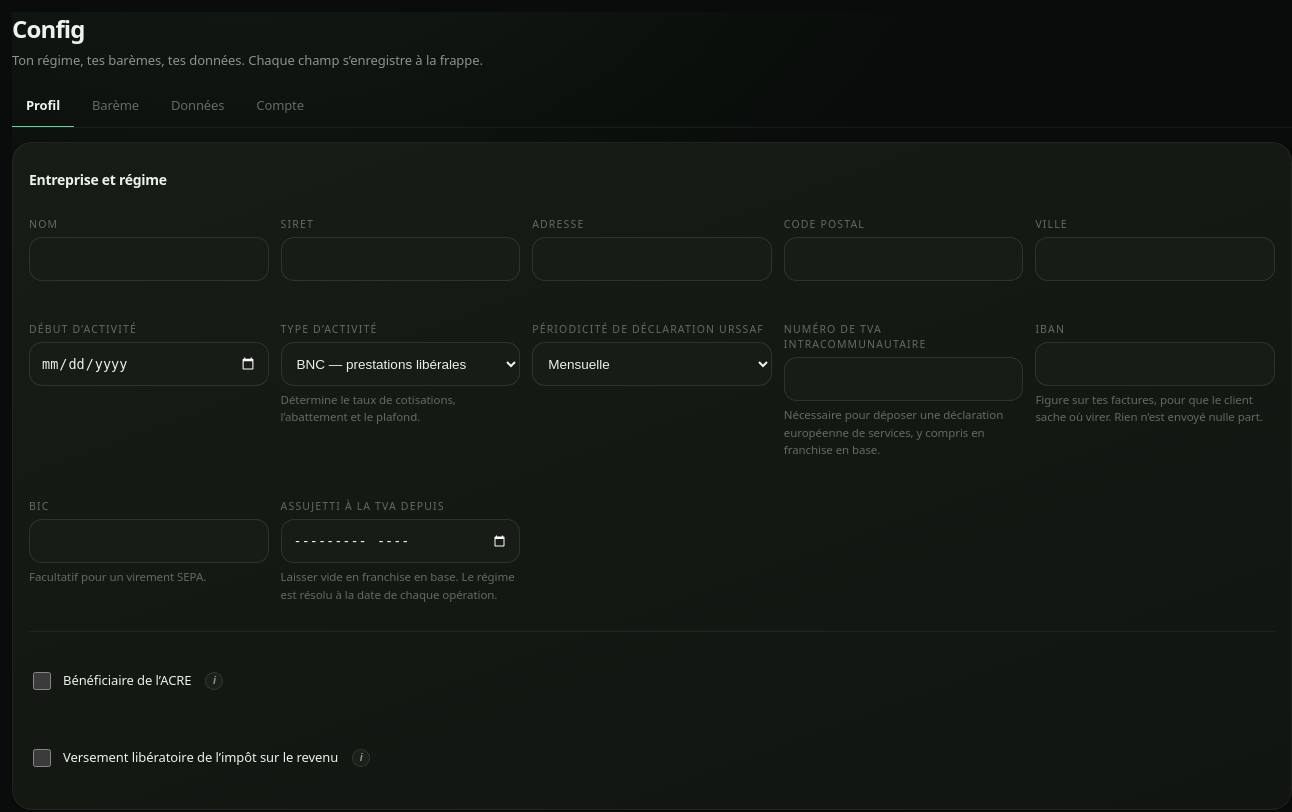
Test: ajout d’une période › refuse un taux illisible plutôt que d’enregistrer zéro
Click the tab "Barème".
click(115, 106)  # box [78,84,153,128]
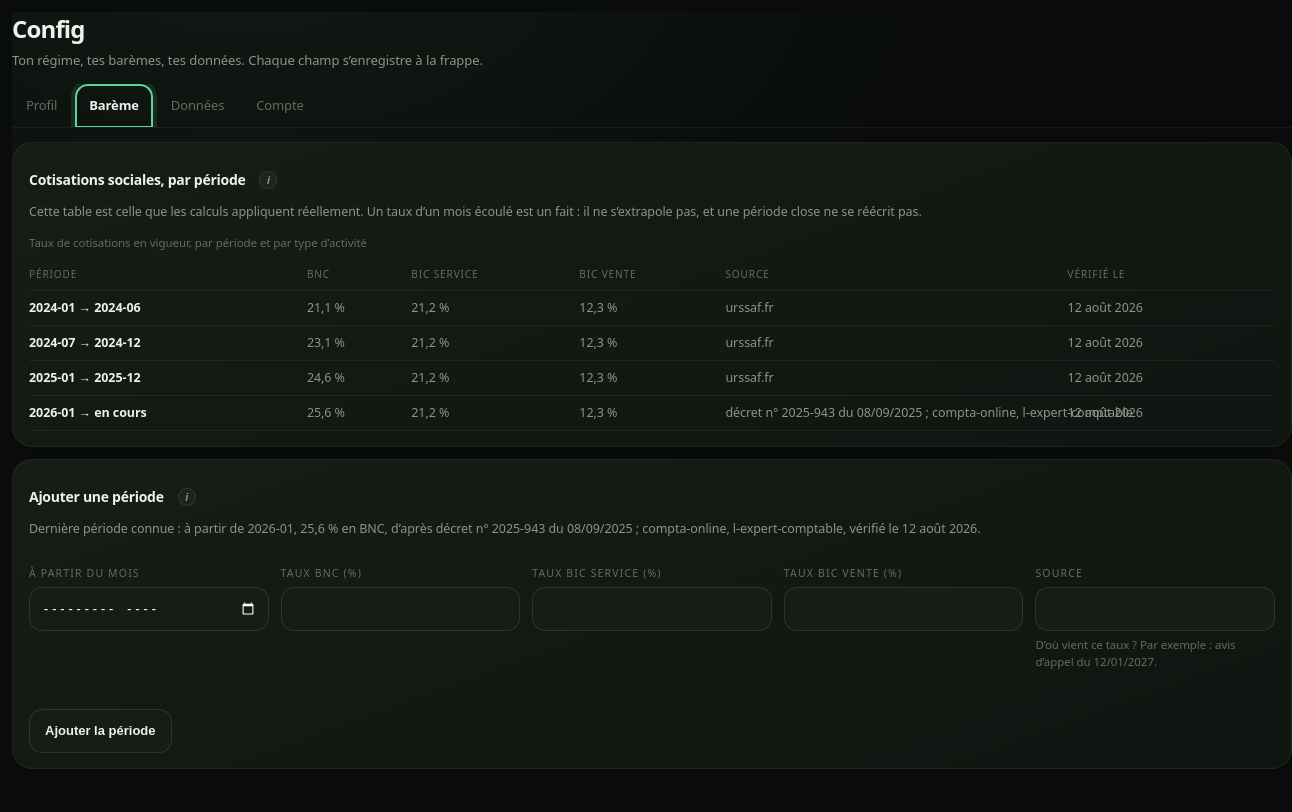
Expected: the table is shown, [29,235,1275,431]
Type "2027-01" into the field labelled "À partir du mois".
click(149, 608); type("2027-01")  # box [29,586,269,630]
Type "beaucoup" into the field labelled "Taux BNC (%)".
click(400, 608); type("beaucoup")  # box [281,586,520,630]
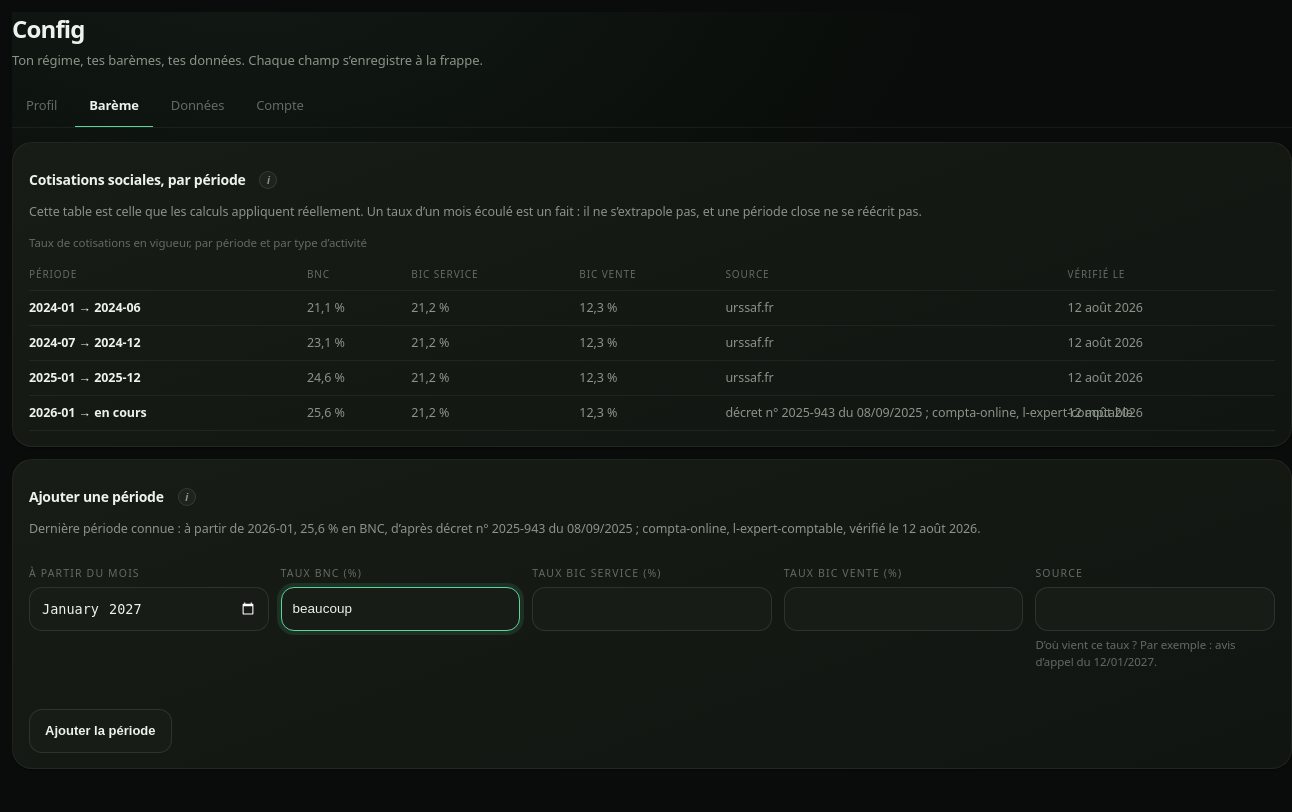
Type "21,2" into the field labelled "Taux BIC service (%)".
click(652, 608); type("21,2")  # box [532,586,772,630]
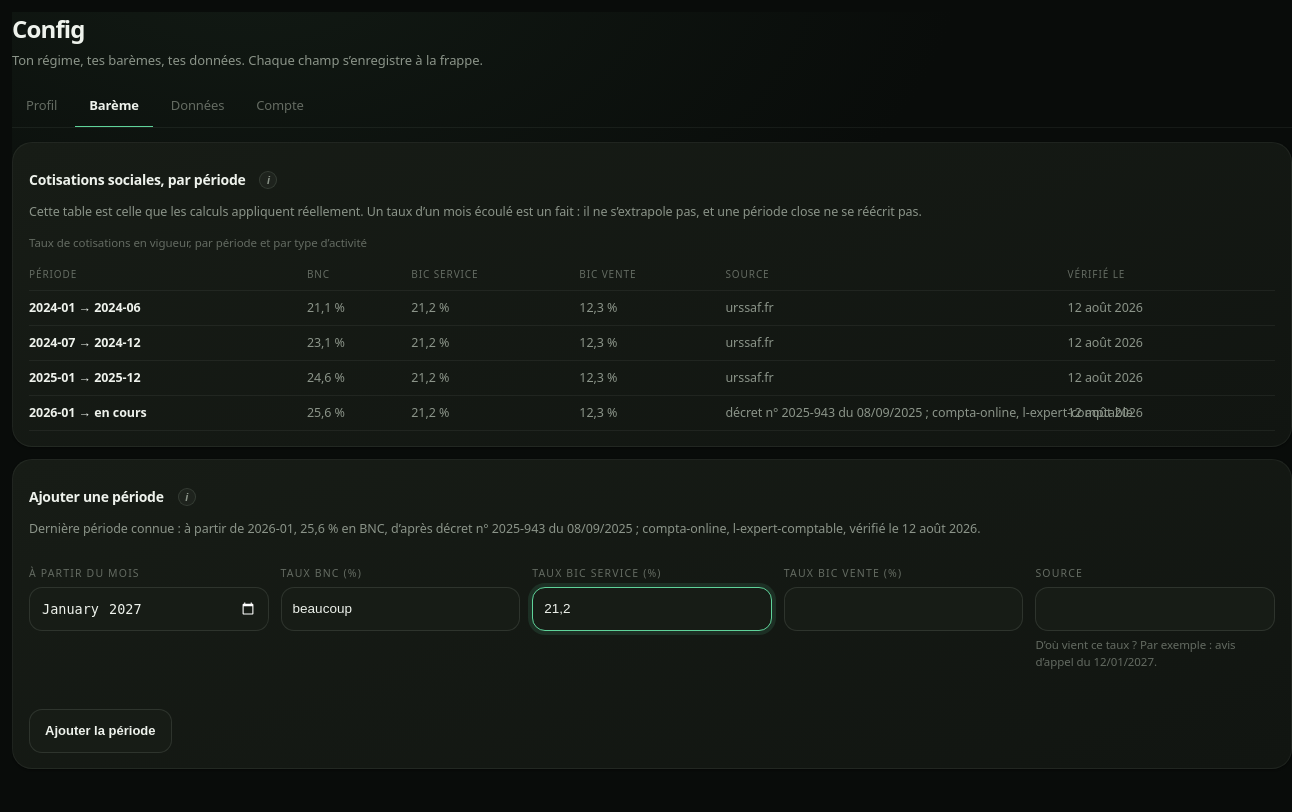
Type "12,3" into the field labelled "Taux BIC vente (%)".
click(904, 608); type("12,3")  # box [784,586,1023,630]
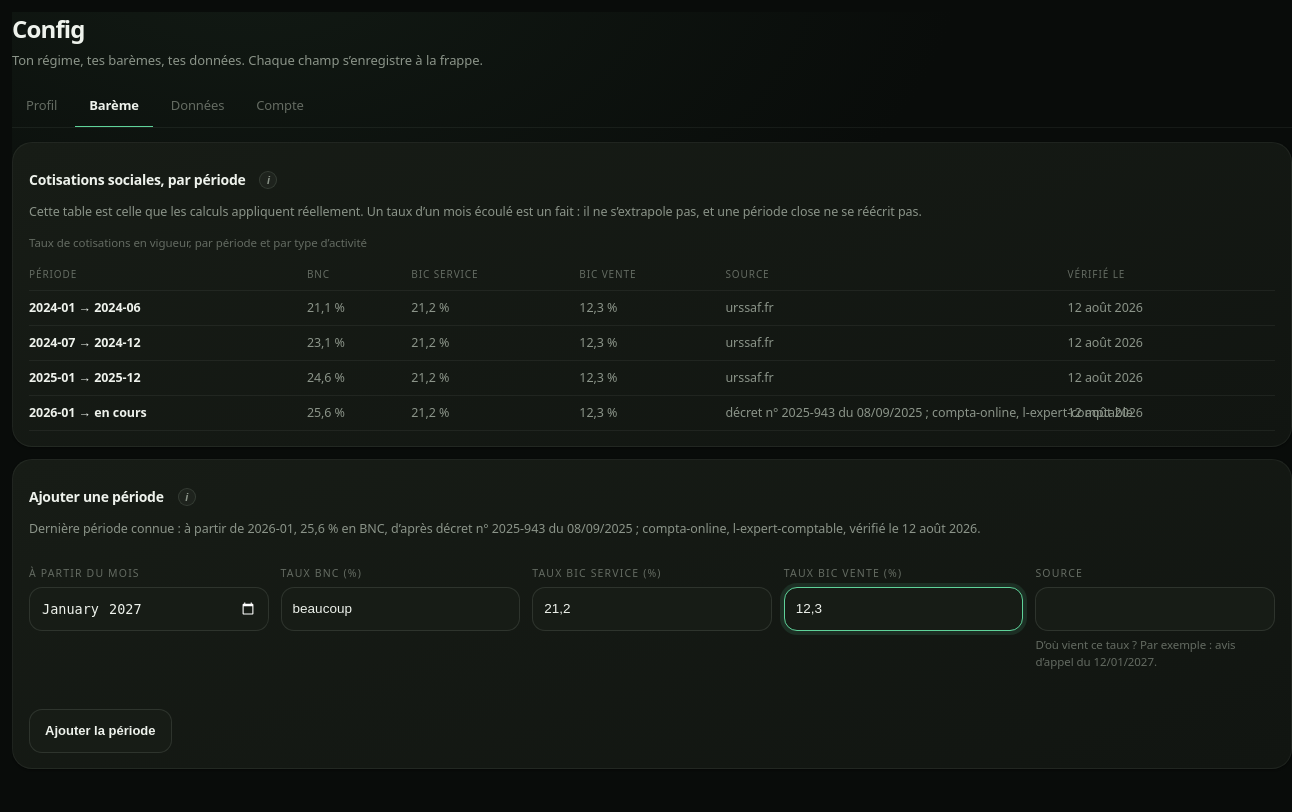
Type "avis" into the field labelled "Source".
click(1155, 608); type("avis")  # box [1035,586,1275,630]
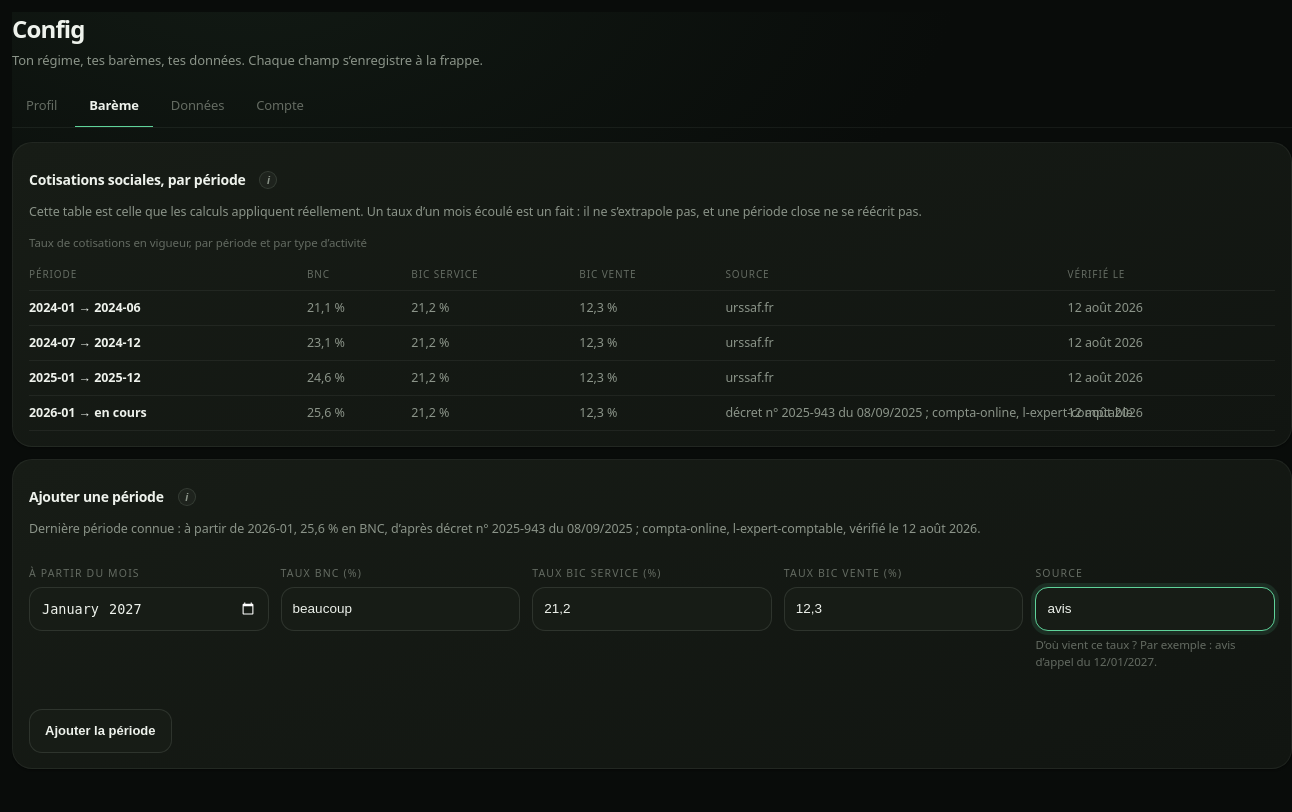
Click the button "Ajouter la période".
click(100, 730)  # box [29,708,172,752]
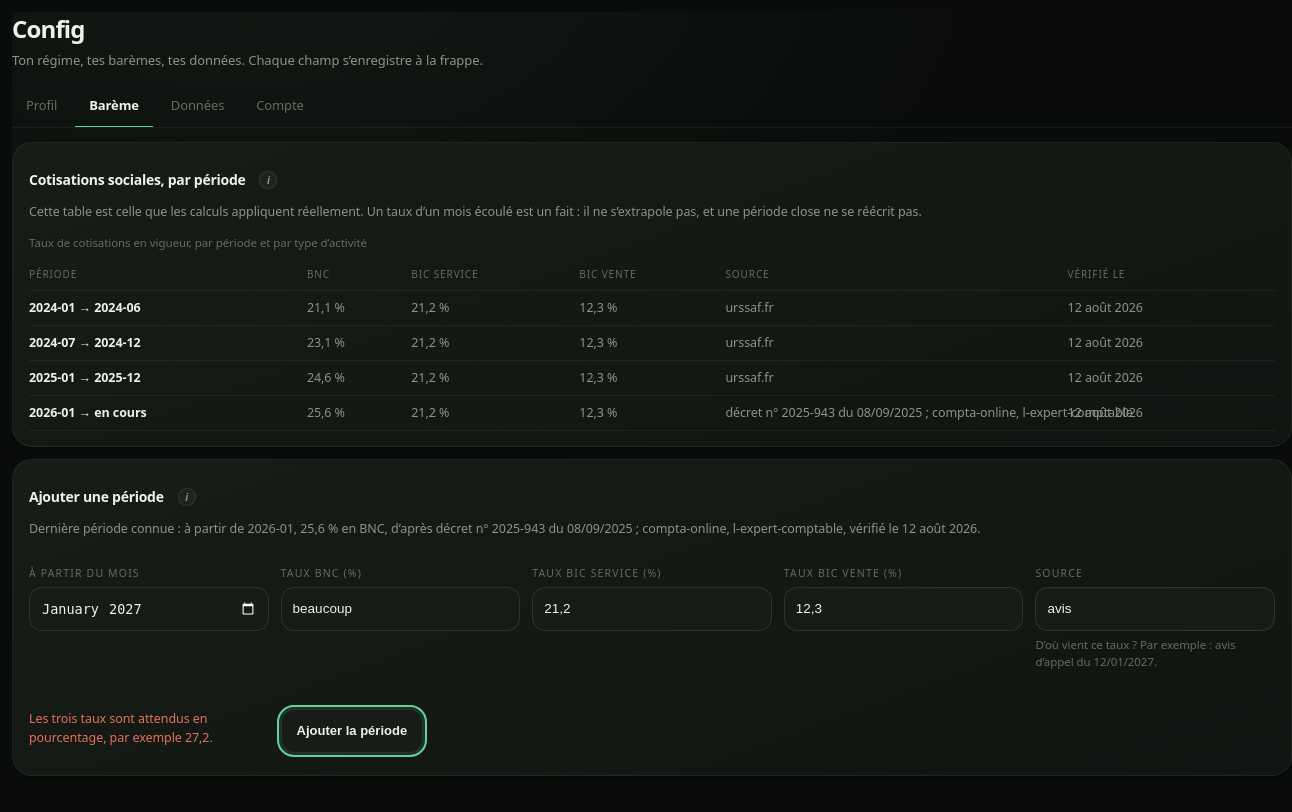
Expected: the message shows "pourcentage", [29,710,213,746]
